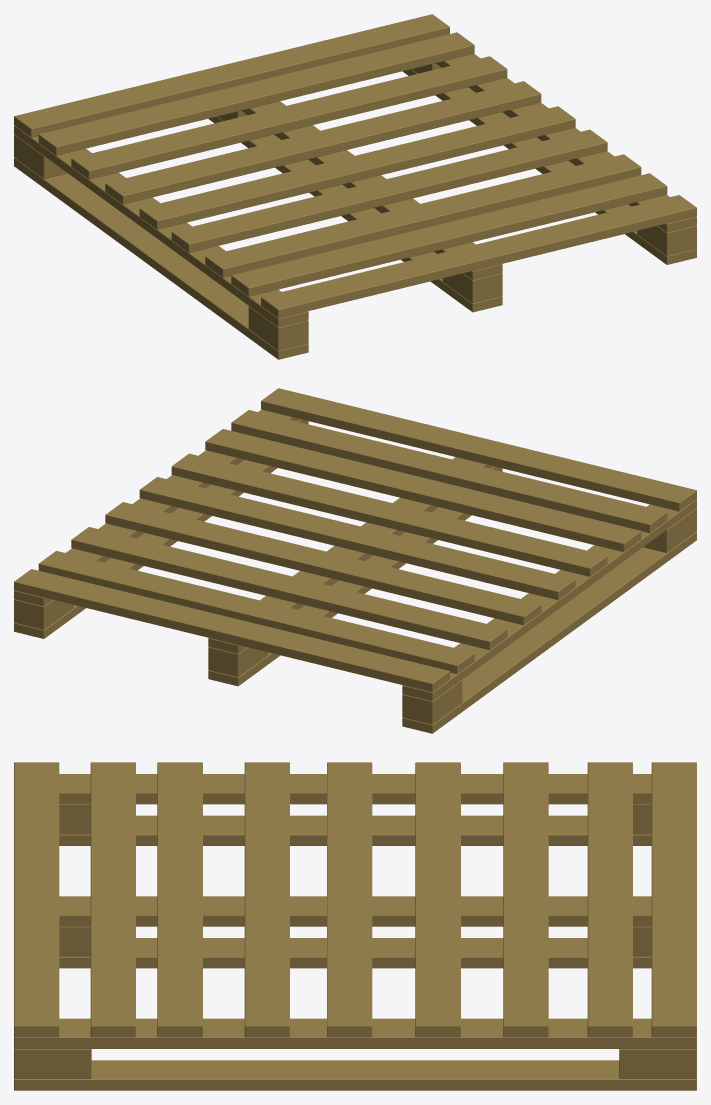
Rendered from PaletteGeo.fbx.
3 views of the same model, one above another, from view 1: azimuth 30°, elevation 25°; view 2: azimuth 150°, elevation 25°; view 3: azimuth 270°, elevation 25° (orthographic). The views are drawn at different scales.
Parts seen in each view (by area): view 1: PaletteGeo; view 2: PaletteGeo; view 3: PaletteGeo.
Boxes of the visible parts, box(x1,y1,x2,y2) form: PaletteGeo: box(14, 14, 696, 359); PaletteGeo: box(14, 388, 696, 733); PaletteGeo: box(14, 762, 696, 1090).
Size of the model in its own units: 324 by 37.2 by 354.
